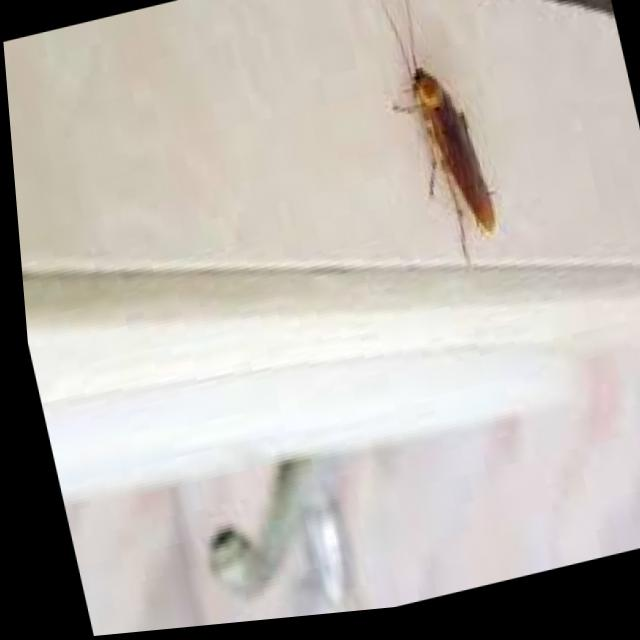Cockroach: (348, 0, 517, 288)
